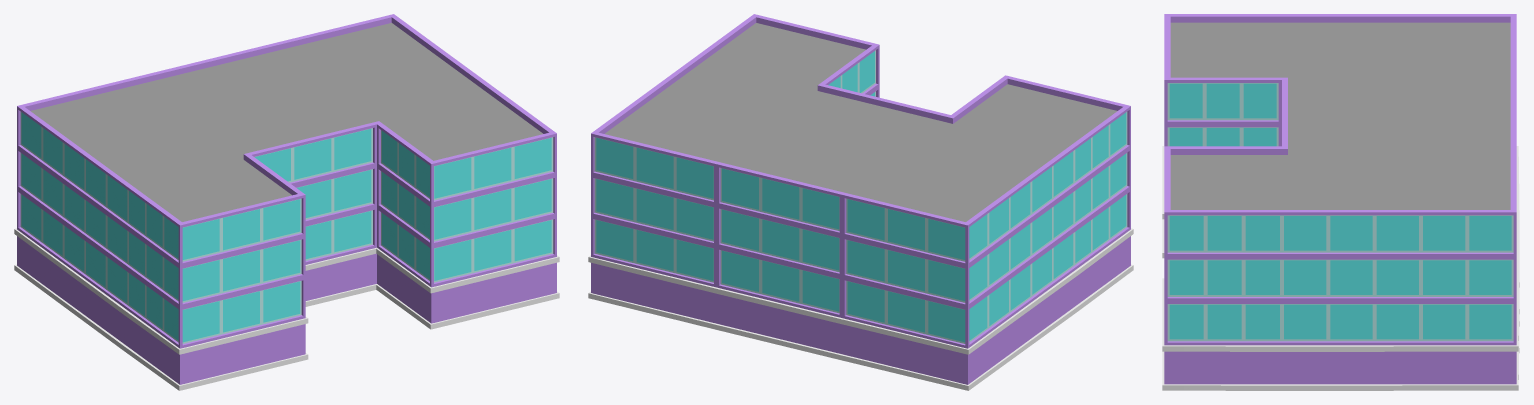
File: SM_House_12_04.FBX
The picture shows the model from 3 angles, left to right: view 1: azimuth 30°, elevation 25°; view 2: azimuth 150°, elevation 25°; view 3: azimuth 270°, elevation 25°; orthographic projection. The views are drawn at different scales.
Visible parts, largest first — view 1: SM_House_12_04; view 2: SM_House_12_04; view 3: SM_House_12_04.
Part boxes in pixels (bbox=[...]): SM_House_12_04: bbox=[14, 14, 559, 390]; SM_House_12_04: bbox=[588, 14, 1133, 390]; SM_House_12_04: bbox=[1162, 14, 1519, 390].
Size of the model in its own units: 12.15 by 5 by 9.12.
Materials: 1 (1 with a texture image).
